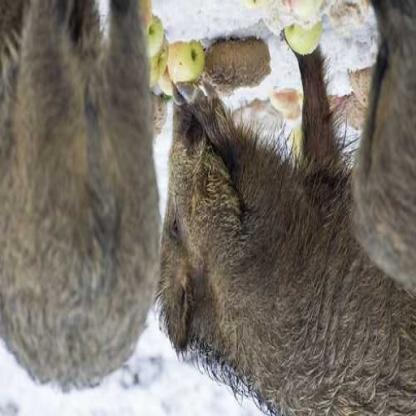boar: (160, 78, 415, 416)
